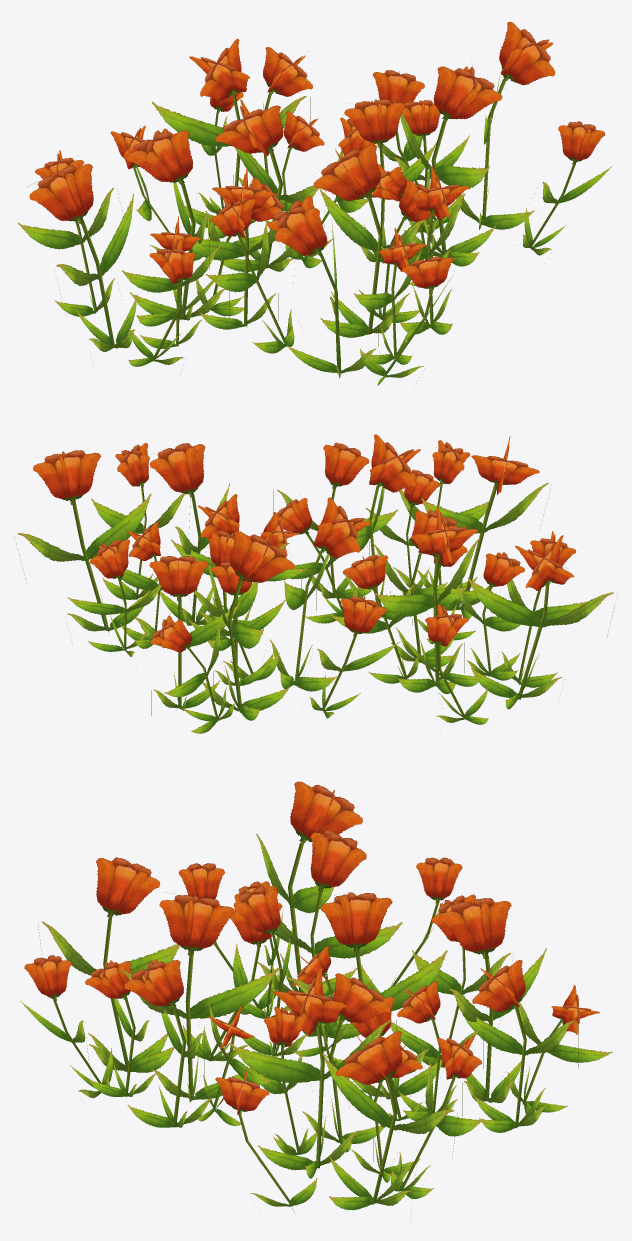
Rendered from obj_macoprfl02-03.glb.
3 views of the same model, one above another, from view 1: azimuth 30°, elevation 25°; view 2: azimuth 150°, elevation 25°; view 3: azimuth 270°, elevation 25° (orthographic). The views are drawn at different scales.
Visible parts, largest first — view 1: part_0; view 2: part_0; view 3: part_0.
Part boxes in pixels (x1,y1,x2,y2): part_0: (18, 21, 612, 386); part_0: (14, 434, 617, 733); part_0: (20, 781, 612, 1221).
Bounding box in the file's own units: 1.56 × 0.5671 × 1.38.
1 material, 1 textured.
